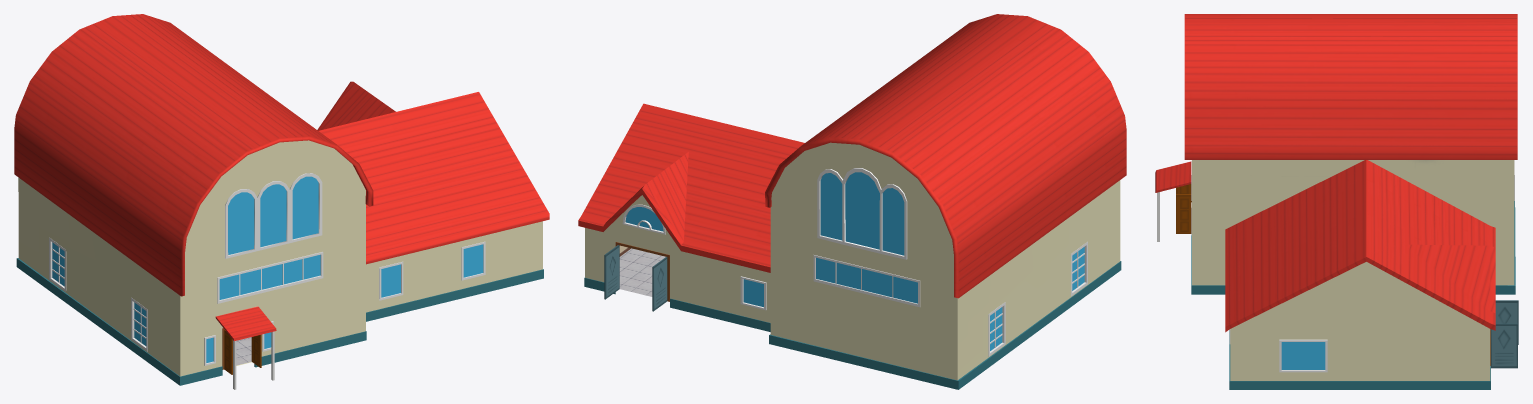
File: Lab_01.fbx
3 views of the same model, side by side, from view 1: azimuth 30°, elevation 25°; view 2: azimuth 150°, elevation 25°; view 3: azimuth 270°, elevation 25° (orthographic).
Parts seen in each view (by area): view 1: Lab_01, WindowsGlass_Lab001; view 2: Lab_01, WindowsGlass_Lab001, Door5, Door4; view 3: Lab_01, WindowsGlass_Lab001, Door4, Door2, Door5.
Boxes of the visible parts, left/top/right/bottom form: Lab_01: left=14, top=14, right=549, bottom=389; WindowsGlass_Lab001: left=52, top=176, right=483, bottom=362; Lab_01: left=578, top=14, right=1126, bottom=389; WindowsGlass_Lab001: left=625, top=172, right=1084, bottom=350; Door5: left=652, top=257, right=667, bottom=311; Door4: left=604, top=245, right=619, bottom=299; Lab_01: left=1155, top=14, right=1517, bottom=389; WindowsGlass_Lab001: left=1281, top=342, right=1325, bottom=369; Door4: left=1491, top=323, right=1517, bottom=368; Door2: left=1176, top=194, right=1191, bottom=233; Door5: left=1495, top=300, right=1518, bottom=344.
Size of the model in its own units: 142 by 79.15 by 115.
